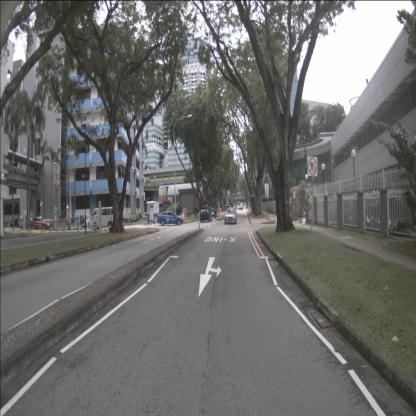cone: (122, 220, 125, 227)
